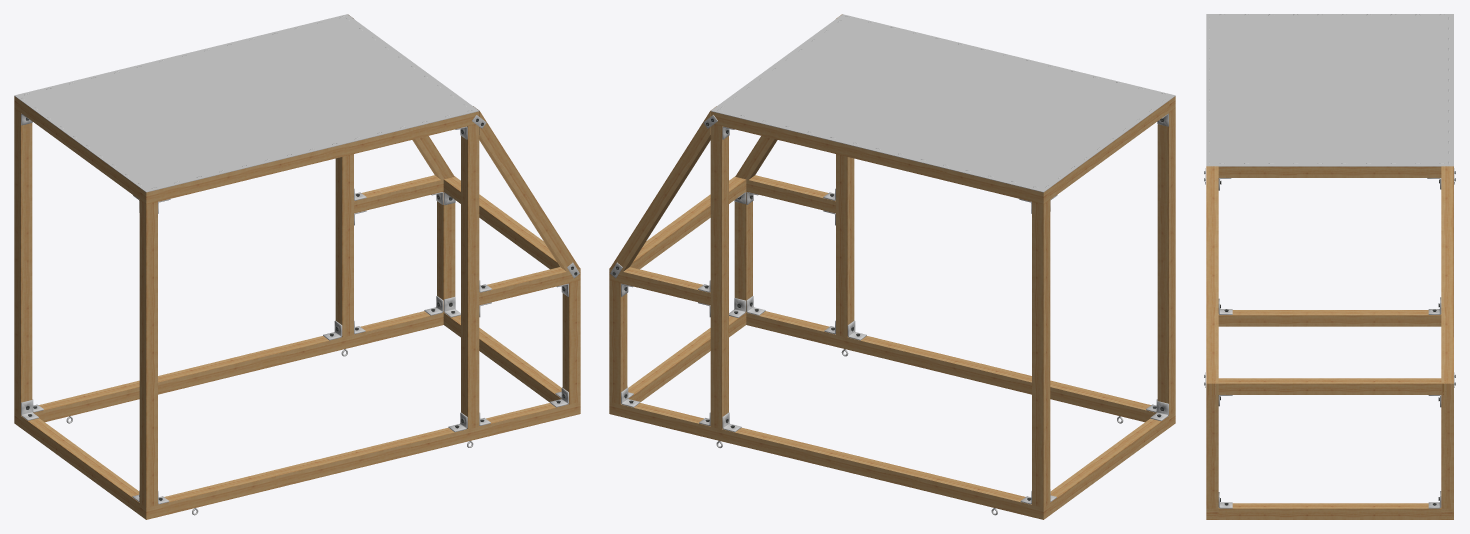
3 views of the same model, side by side, from view 1: azimuth 30°, elevation 25°; view 2: azimuth 150°, elevation 25°; view 3: azimuth 270°, elevation 25° (orthographic). The views are drawn at different scales.
Visible parts, largest first — view 1: Плоскость.097, Куб.084, Куб.073, Куб.085, Куб.088, Куб.075, Куб.087, Куб.078, Куб.071, Куб.080, Куб.079, Куб.074 (+6 smaller); view 2: Плоскость.097, Куб.073, Куб.084, Куб.075, Куб.078, Куб.085, Куб.077, Куб.088, Куб.089, Куб.080, Куб.079, Куб.074 (+6 smaller); view 3: Плоскость.097, Куб.074, Куб.080, Куб.079, Куб.071, Куб.089, Куб.082, Куб.076, Куб.086.
Boxes of the visible parts, <box> form: Плоскость.097: <box>14,14,478,192</box>; Куб.084: <box>139,402,580,519</box>; Куб.073: <box>14,311,443,427</box>; Куб.085: <box>139,200,157,507</box>; Куб.088: <box>461,124,479,429</box>; Куб.075: <box>14,108,32,415</box>; Куб.087: <box>139,111,479,204</box>; Куб.078: <box>335,154,353,337</box>; Куб.071: <box>473,106,579,271</box>; Куб.080: <box>21,416,139,514</box>; Куб.079: <box>443,312,561,402</box>; Куб.074: <box>443,176,559,269</box>; Плоскость.097: <box>711,14,1175,192</box>; Куб.073: <box>609,402,1050,519</box>; Куб.084: <box>746,311,1175,427</box>; Куб.075: <box>1032,200,1050,507</box>; Куб.078: <box>710,124,728,429</box>; Куб.085: <box>1157,108,1175,415</box>; Куб.077: <box>710,111,1050,204</box>; Куб.088: <box>836,154,854,337</box>; Куб.089: <box>610,106,716,271</box>; Куб.080: <box>1050,416,1168,514</box>; Куб.079: <box>628,312,746,402</box>; Куб.074: <box>630,176,746,269</box>; Плоскость.097: <box>1206,14,1453,166</box>; Куб.074: <box>1218,378,1441,394</box>; Куб.080: <box>1218,310,1441,326</box>; Куб.079: <box>1218,503,1441,519</box>; Куб.071: <box>1206,166,1218,383</box>; Куб.089: <box>1441,166,1453,383</box>; Куб.082: <box>1218,166,1441,177</box>; Куб.076: <box>1441,395,1453,508</box>; Куб.086: <box>1206,395,1218,508</box>.
Bounding box in the file's own units: 3 × 2.24 × 1.6.
